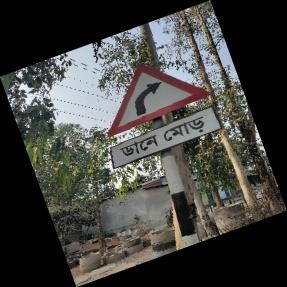Right-turn: (105, 62, 222, 173)
